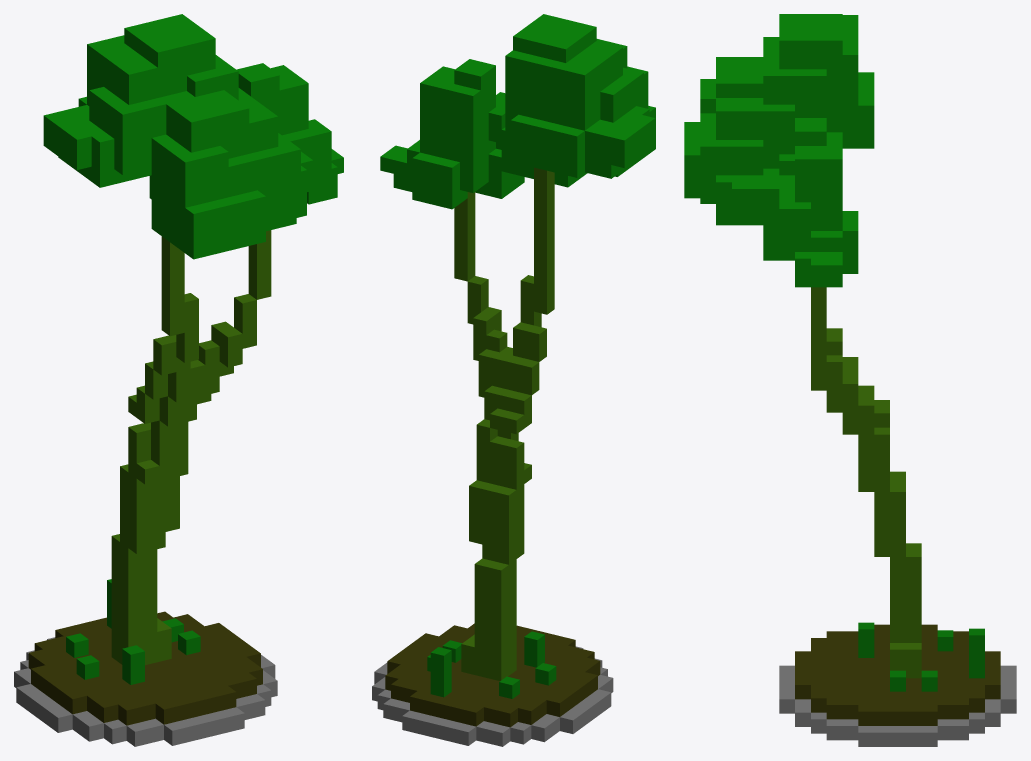
The model's file is treeTwo.glb.
3 views of the same model, side by side, from view 1: azimuth 30°, elevation 25°; view 2: azimuth 150°, elevation 25°; view 3: azimuth 270°, elevation 25° (orthographic). The views are drawn at different scales.
Parts seen in each view (by area): view 1: ObjObject; view 2: ObjObject; view 3: ObjObject.
Boxes of the visible parts, <box> form: ObjObject: <box>14,14,343,746</box>; ObjObject: <box>372,14,655,746</box>; ObjObject: <box>684,14,1016,746</box>.
Bounding box in the file's own units: 1.9 × 4.6 × 2.1.
1 material, 1 textured.
